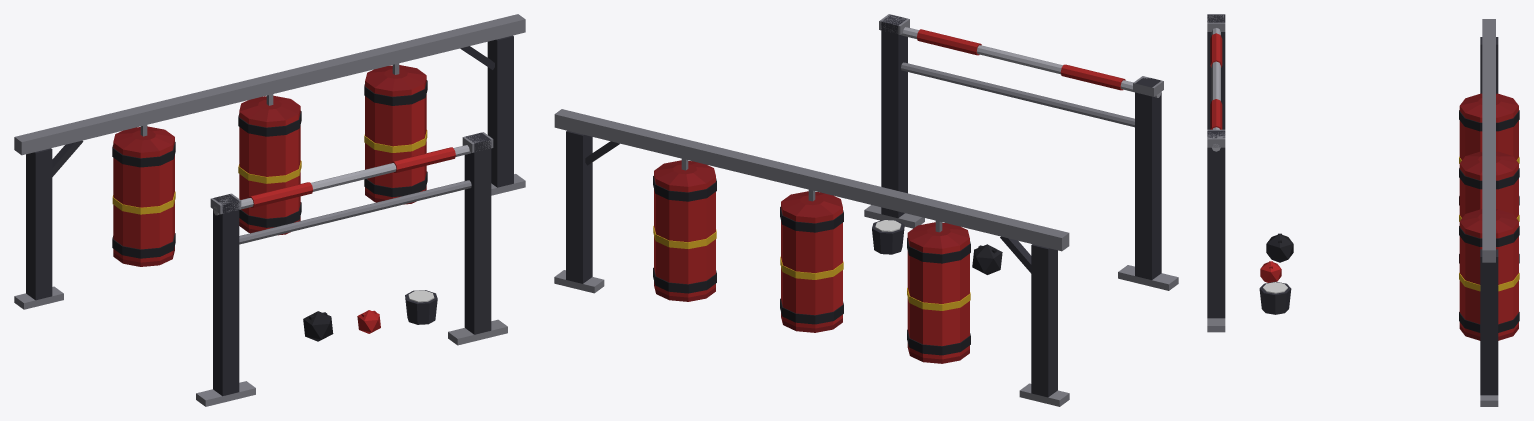
The model's file is Decor_GymHall_Bags.fbx.
The picture shows the model from 3 angles, left to right: view 1: azimuth 30°, elevation 25°; view 2: azimuth 150°, elevation 25°; view 3: azimuth 270°, elevation 25°; orthographic projection. The views are drawn at different scales.
Visible parts, largest first — view 1: Bags_Body; view 2: Bags_Body; view 3: Bags_Body.
Part boxes in pixels (x1,y1,x2,y2): Bags_Body: (14, 14, 525, 406); Bags_Body: (554, 14, 1178, 406); Bags_Body: (1207, 14, 1519, 406).
Bounding box in the file's own units: 24 × 9 × 13.7.
